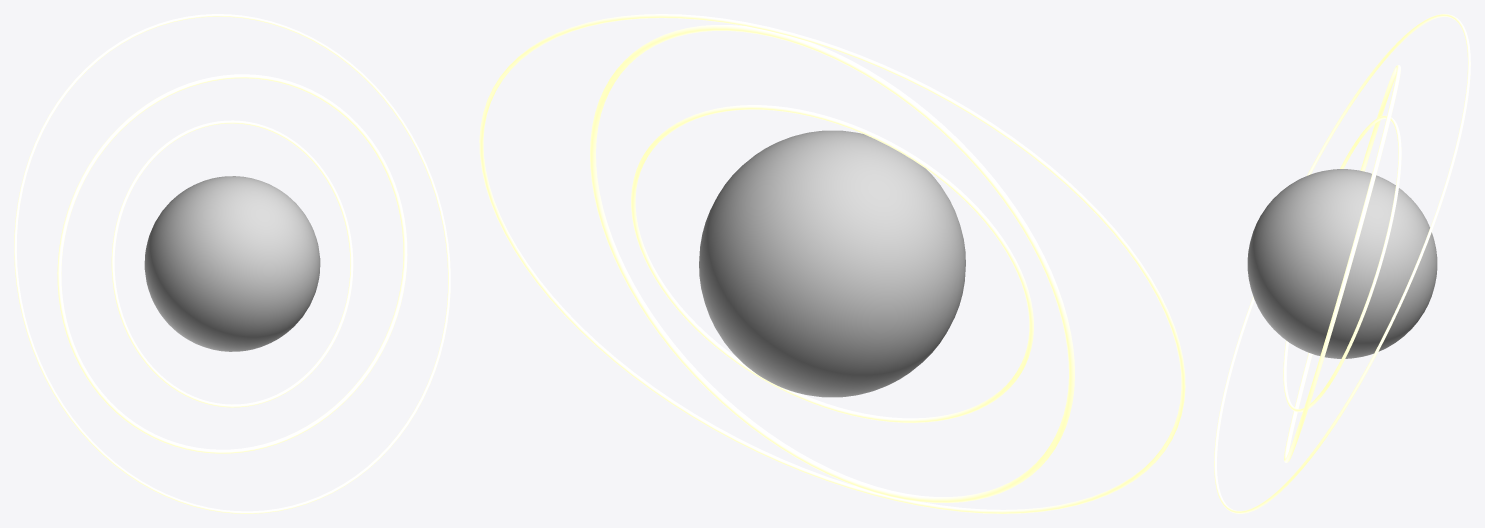
Rendered from Universe_scene.fbx_Collection.fbx.
3 views of the same model, side by side, from view 1: azimuth 30°, elevation 25°; view 2: azimuth 150°, elevation 25°; view 3: azimuth 270°, elevation 25° (orthographic). The views are drawn at different scales.
Parts seen in each view (by area): view 1: Brahmanda_Core_Orb, Vedic_Celestial_Ring_1, Vedic_Celestial_Ring_2, Vedic_Celestial_Ring_0; view 2: Brahmanda_Core_Orb, Vedic_Celestial_Ring_1, Vedic_Celestial_Ring_2, Vedic_Celestial_Ring_0; view 3: Brahmanda_Core_Orb, Vedic_Celestial_Ring_2, Vedic_Celestial_Ring_1, Vedic_Celestial_Ring_0.
Boxes of the visible parts, <box> form: Brahmanda_Core_Orb: <box>144,176,320,351</box>; Vedic_Celestial_Ring_1: <box>57,74,407,453</box>; Vedic_Celestial_Ring_2: <box>14,14,450,513</box>; Vedic_Celestial_Ring_0: <box>111,120,353,407</box>; Brahmanda_Core_Orb: <box>699,130,965,397</box>; Vedic_Celestial_Ring_1: <box>590,25,1074,502</box>; Vedic_Celestial_Ring_2: <box>479,14,1185,513</box>; Vedic_Celestial_Ring_0: <box>631,105,1033,422</box>; Brahmanda_Core_Orb: <box>1247,169,1437,358</box>; Vedic_Celestial_Ring_2: <box>1214,14,1470,513</box>; Vedic_Celestial_Ring_1: <box>1284,65,1400,462</box>; Vedic_Celestial_Ring_0: <box>1283,115,1401,412</box>.
Bounding box in the file's own units: 1485 × 1318 × 703.
